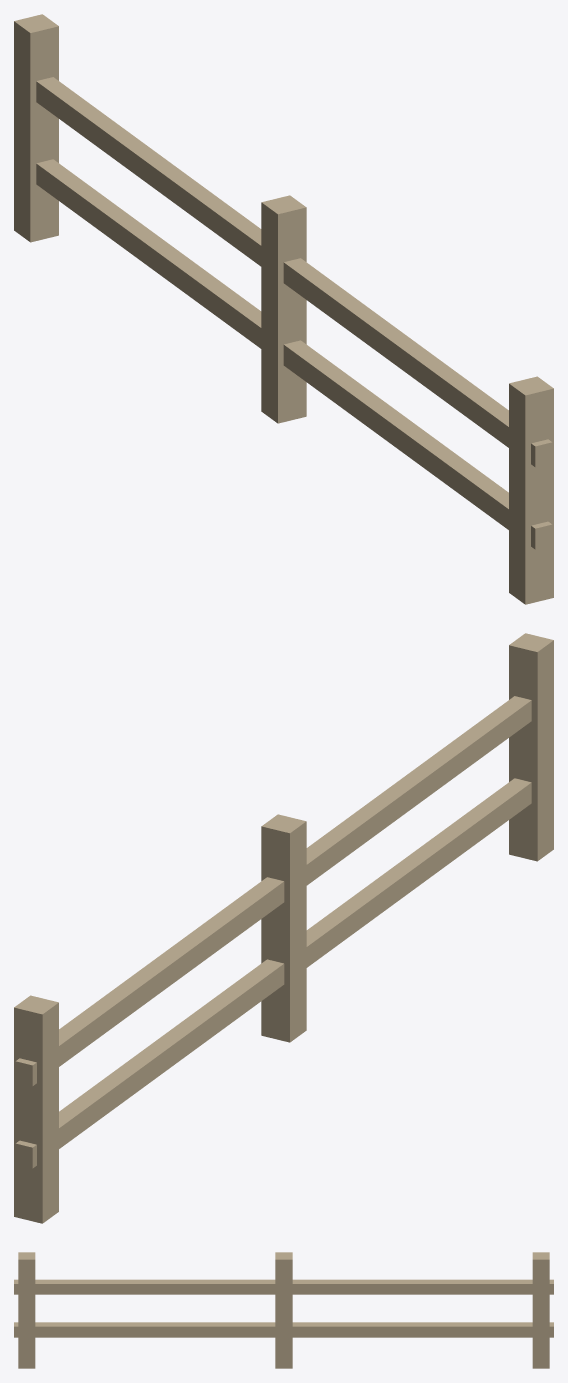
The model's file is tyne-fence_lod1.glb.
The picture shows the model from 3 angles, top to bottom: view 1: azimuth 30°, elevation 25°; view 2: azimuth 150°, elevation 25°; view 3: azimuth 270°, elevation 25°; orthographic projection. The views are drawn at different scales.
Visible parts, largest first — view 1: RF_FenceRail, RF_FenceRail.001, RF_FencePost.001, RF_FencePost.002, RF_FencePost; view 2: RF_FenceRail, RF_FenceRail.001, RF_FencePost, RF_FencePost.002, RF_FencePost.001; view 3: RF_FenceRail.001, RF_FenceRail, RF_FencePost.001, RF_FencePost.002, RF_FencePost.
Boxes of the visible parts, <box> form: RF_FenceRail: <box>36,77,552,467</box>; RF_FenceRail.001: <box>36,159,552,549</box>; RF_FencePost.001: <box>509,376,553,604</box>; RF_FencePost.002: <box>261,195,306,423</box>; RF_FencePost: <box>14,14,58,242</box>; RF_FenceRail: <box>15,696,531,1086</box>; RF_FenceRail.001: <box>15,778,531,1168</box>; RF_FencePost: <box>14,995,58,1223</box>; RF_FencePost.002: <box>261,814,306,1042</box>; RF_FencePost.001: <box>509,633,553,861</box>; RF_FenceRail.001: <box>14,1322,553,1337</box>; RF_FenceRail: <box>14,1279,553,1294</box>; RF_FencePost.001: <box>18,1252,35,1368</box>; RF_FencePost.002: <box>275,1252,292,1368</box>; RF_FencePost: <box>532,1252,549,1368</box>.
Bounding box in the file's own units: 0.2 × 1.4 × 6.3.
